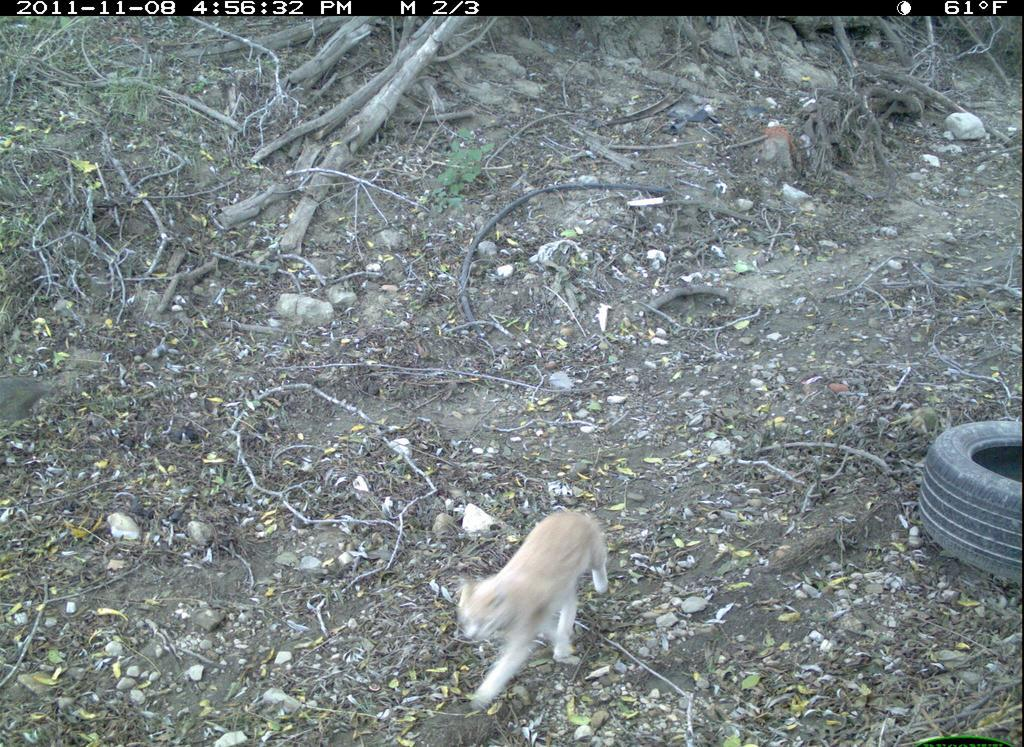cat: (431, 501, 653, 711)
